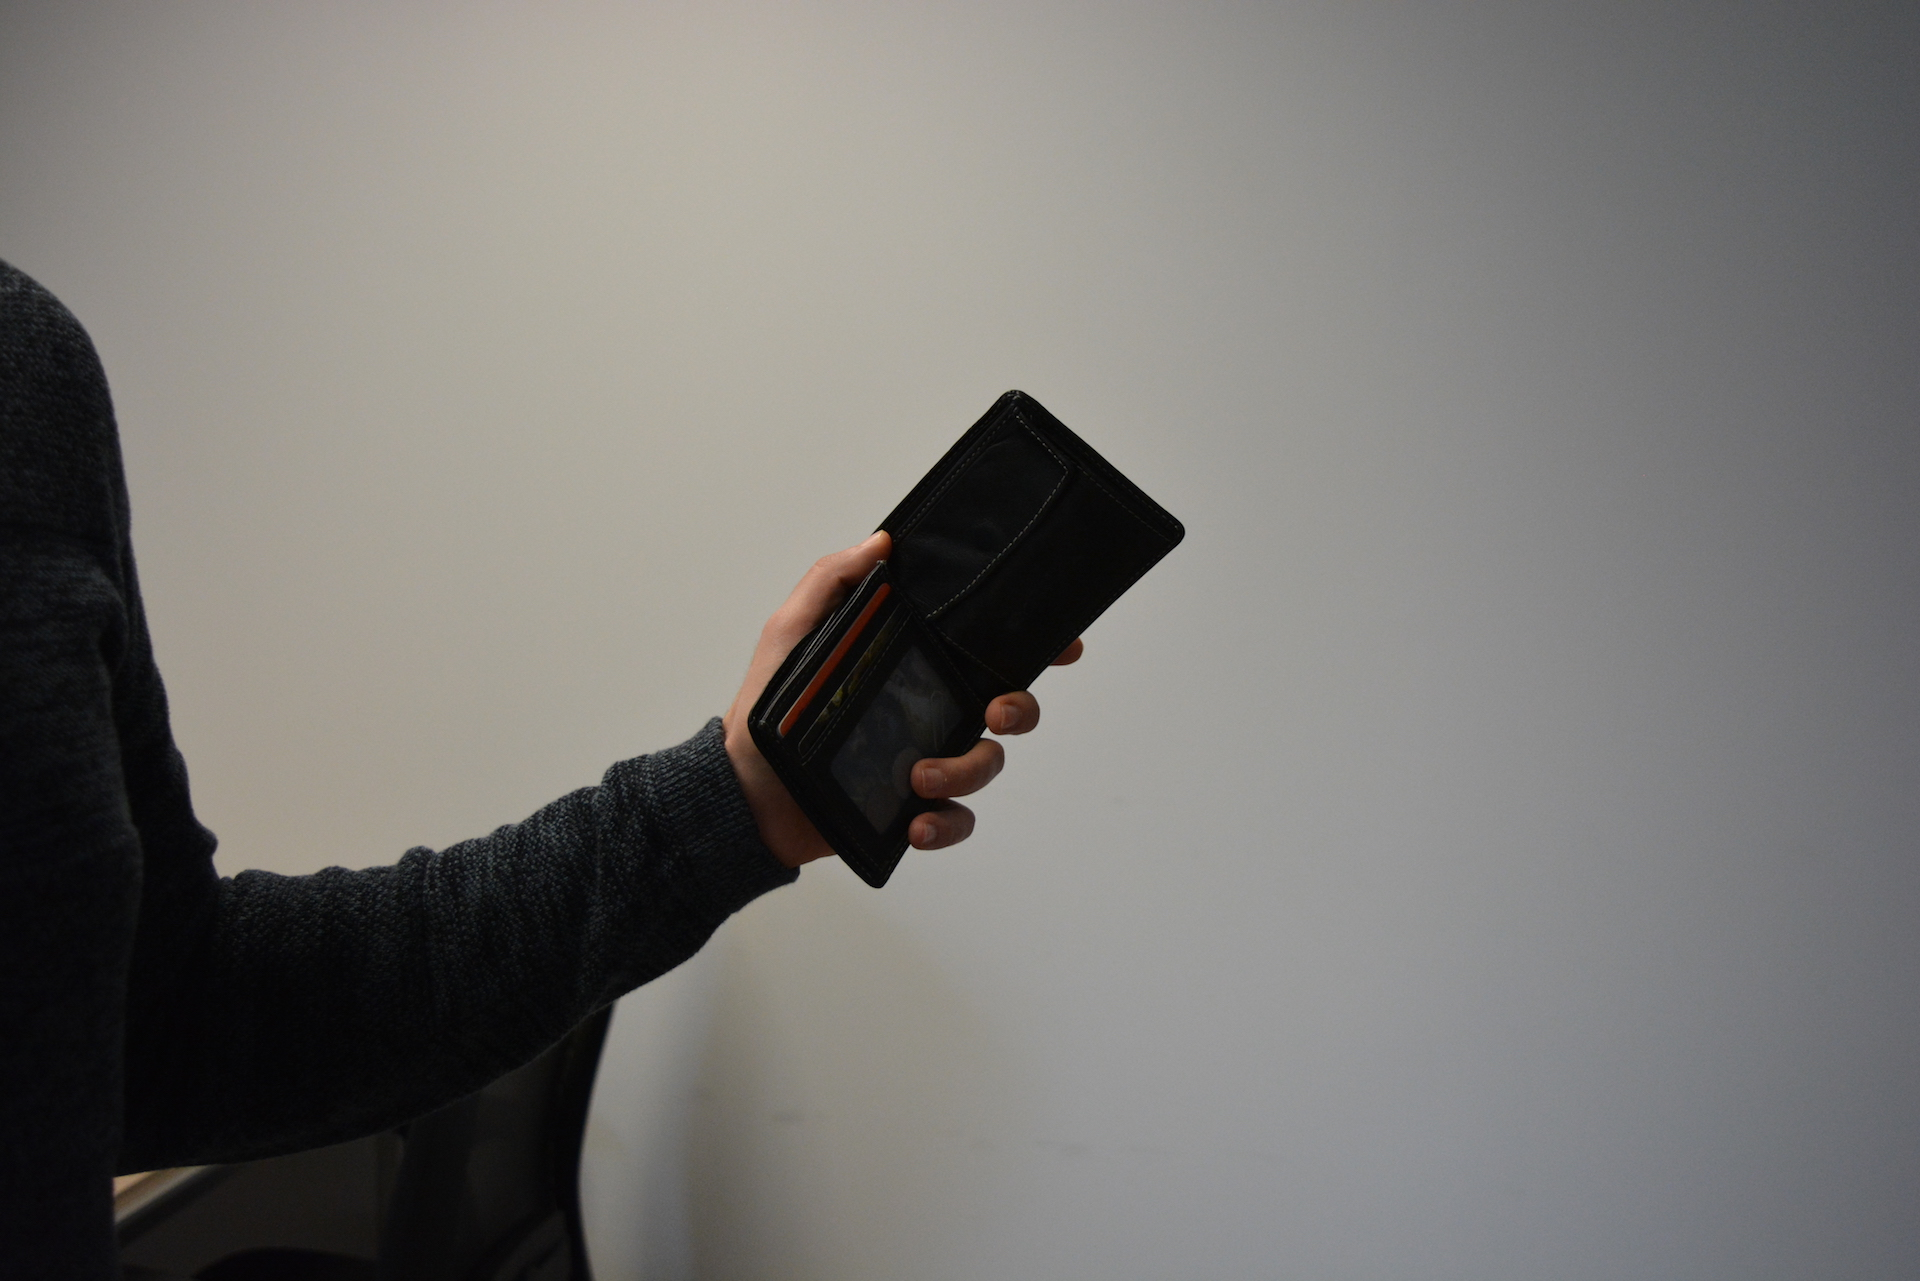monedero: (745, 387, 1188, 891)
